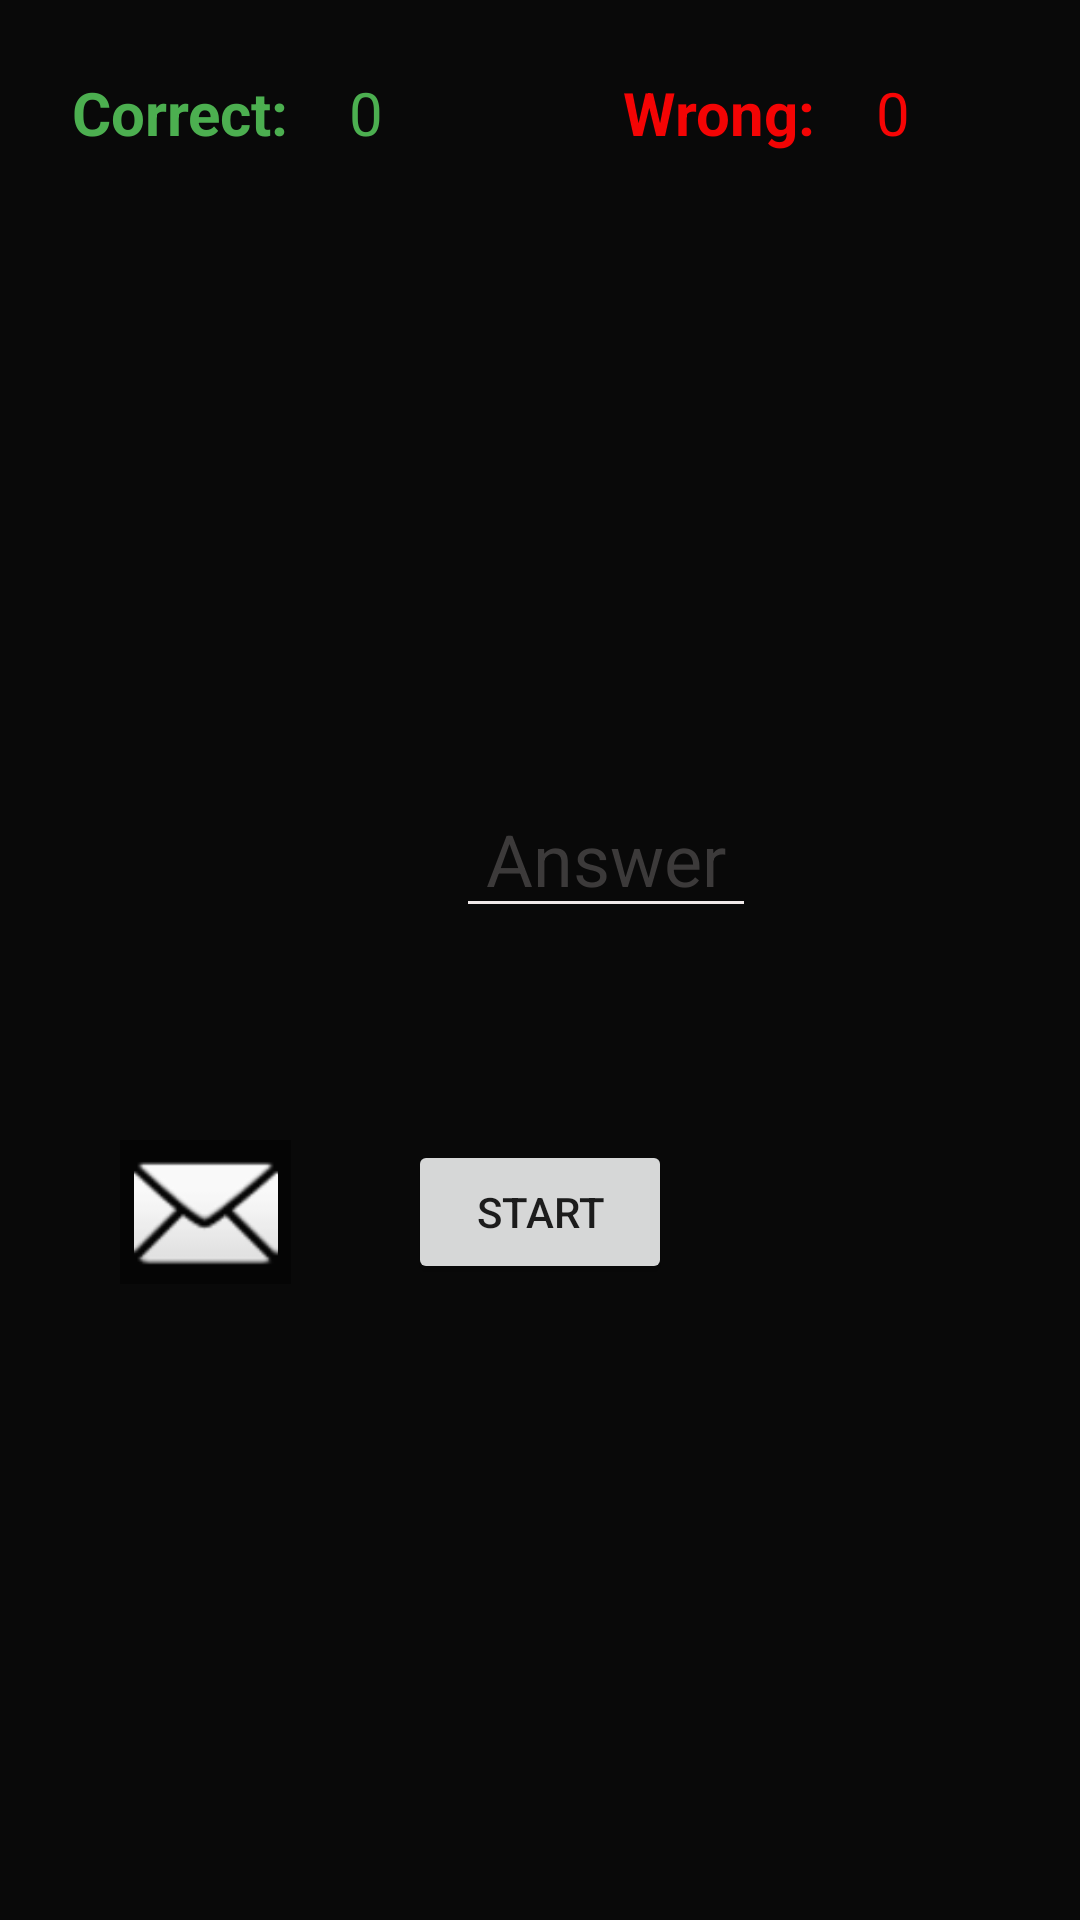

Icons on this 1080*1920 Android screen, each with its box as {"x1": x1, "y1": y1, "x2": x2, "y2": y2}:
email: {"x1": 134, "y1": 1162, "x2": 278, "y2": 1264}
